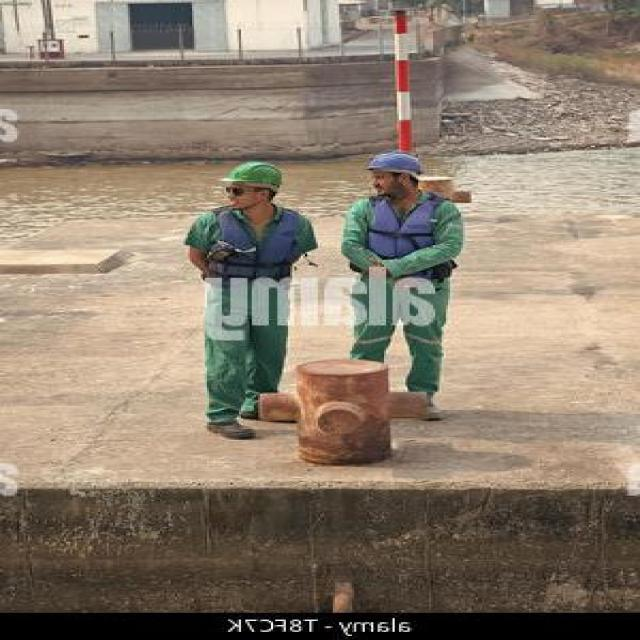Safety-Helmet: (209, 155, 294, 195), (354, 146, 435, 185)
